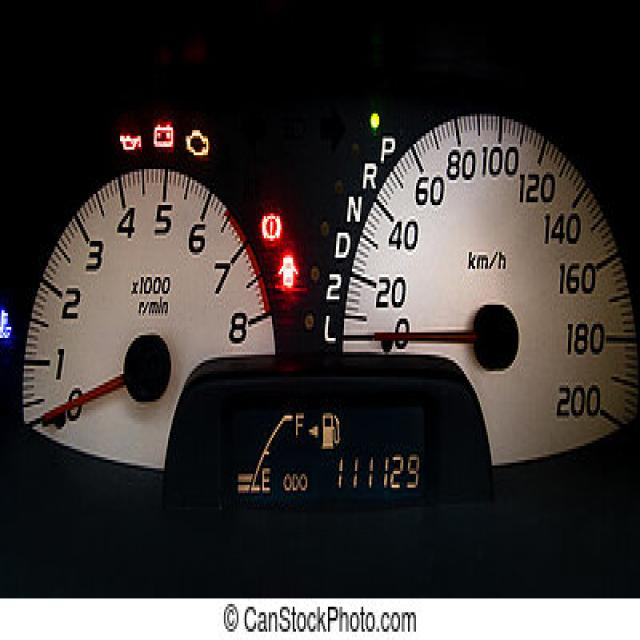Braking System Issue: (258, 208, 283, 246)
Charging System Issue: (150, 120, 178, 152)
Check Engine: (184, 124, 211, 160)
Low Engine Oil Warning Light: (117, 128, 144, 155)
